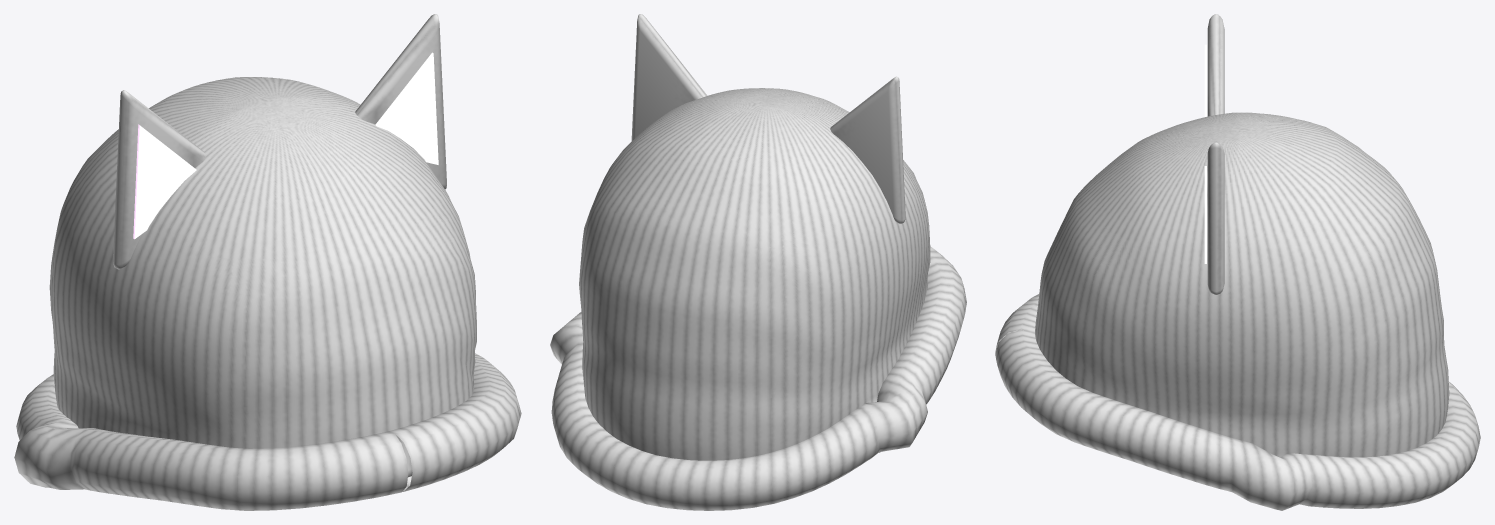
Rendered from acc_cat_ears_female.glb.
The picture shows the model from 3 angles, left to right: view 1: azimuth 30°, elevation 25°; view 2: azimuth 150°, elevation 25°; view 3: azimuth 270°, elevation 25°; orthographic projection. The views are drawn at different scales.
Visible parts, largest first — view 1: cat_ears; view 2: cat_ears; view 3: cat_ears.
Boxes of the visible parts, x1,y1,x2,y2 form: cat_ears: (14,14,521,510); cat_ears: (550,14,966,510); cat_ears: (995,14,1480,510).
Bounding box in the file's own units: 0.2278 × 0.2258 × 0.2573.
Materials: 2 (1 with a texture image).
